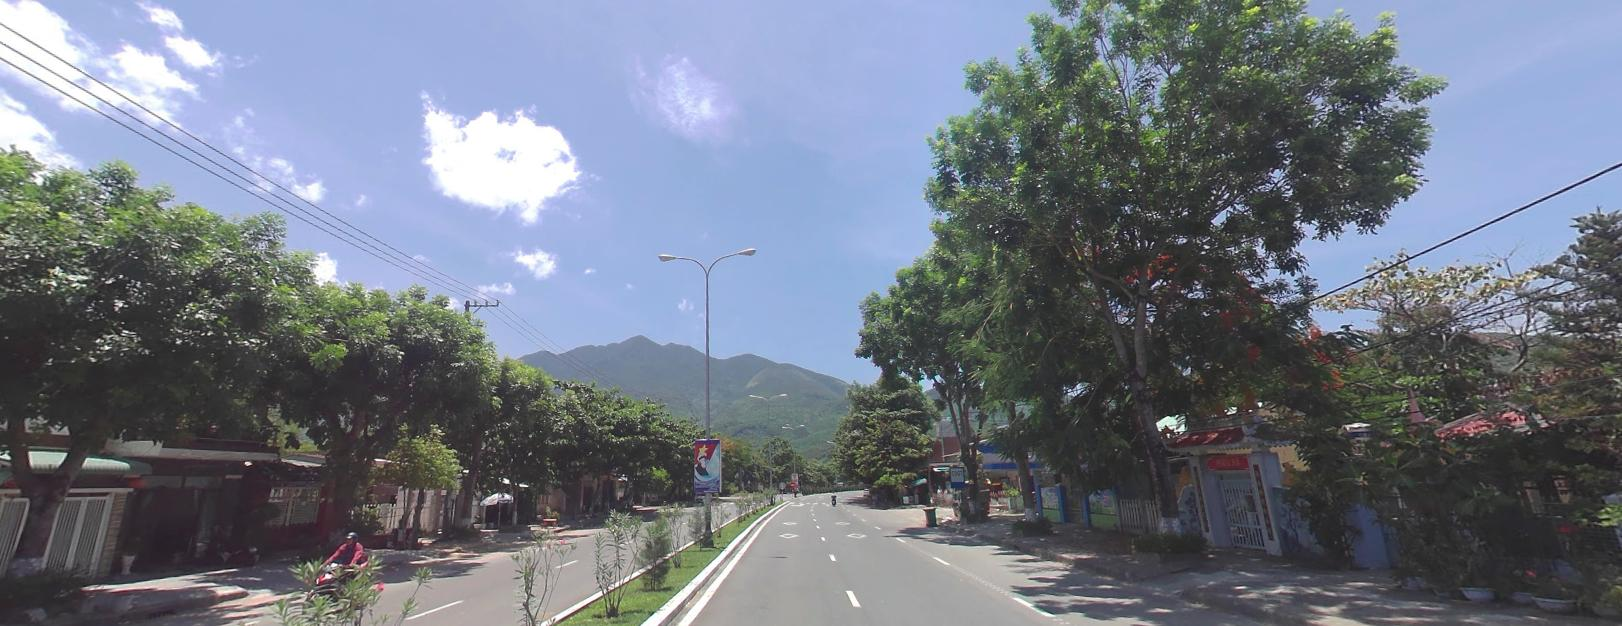Cam nguoc chieu: (789, 481, 794, 486)
